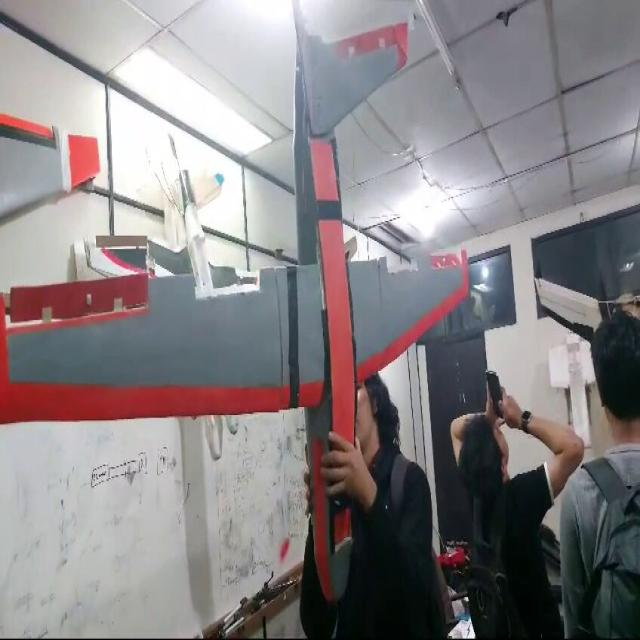plane: (0, 0, 472, 603)
